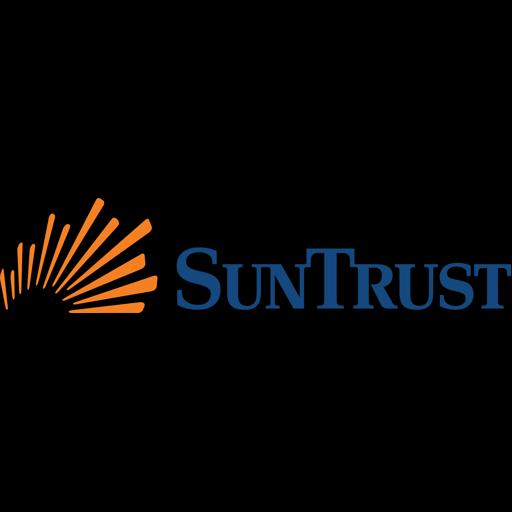SunTrust Bank: (0, 198, 511, 313)
